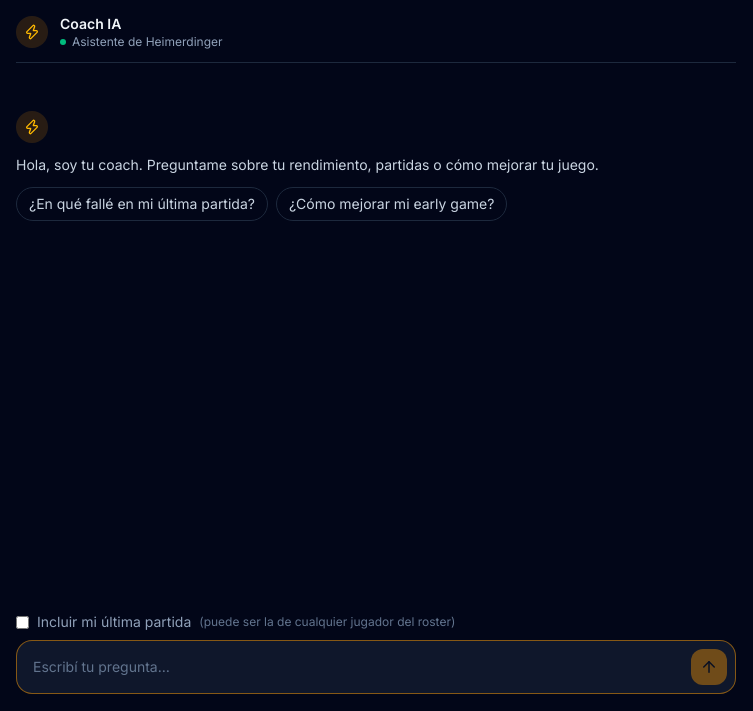
coach chat › renders a user message and sanitized assistant response as plain text
Step 1. Type "¿Cómo estoy?" into the field with placeholder "Escribí tu pregunta…" → x=354, y=667, box [25,649,683,685]
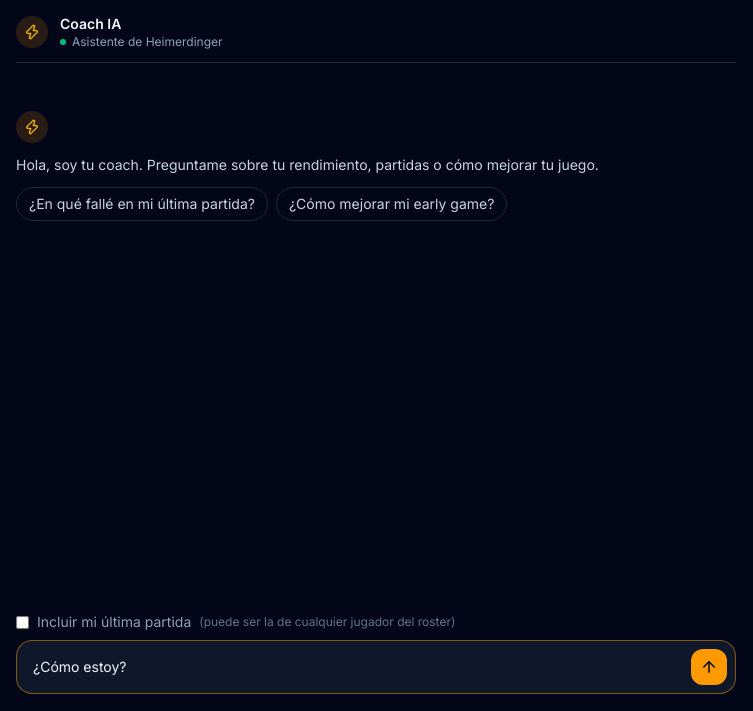
Step 2. Click the button named "enviar" → x=709, y=667, box [691,649,727,685]
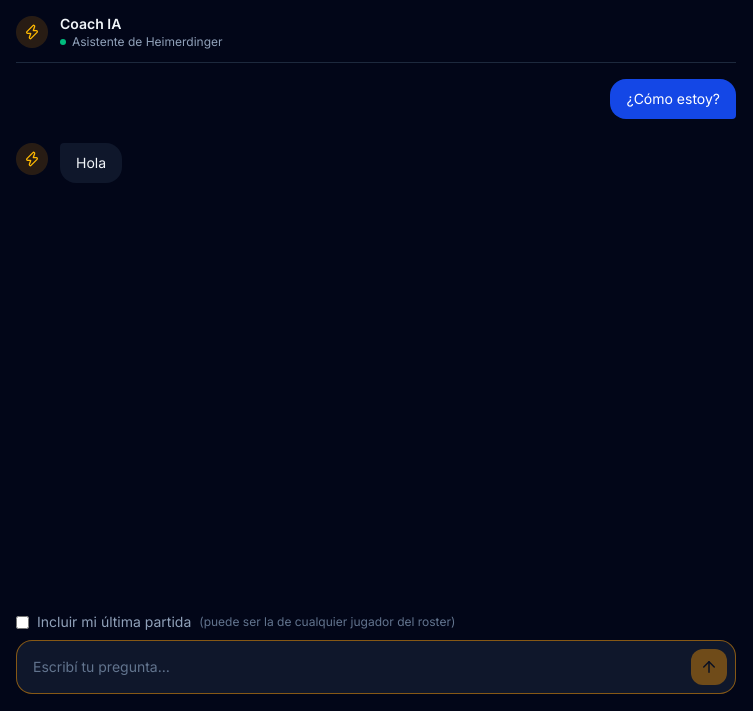
Expected: the text "Hola" is shown, [60,143,122,183]
Result: the text "¿Cómo estoy?" is shown at [610,79,736,119]
